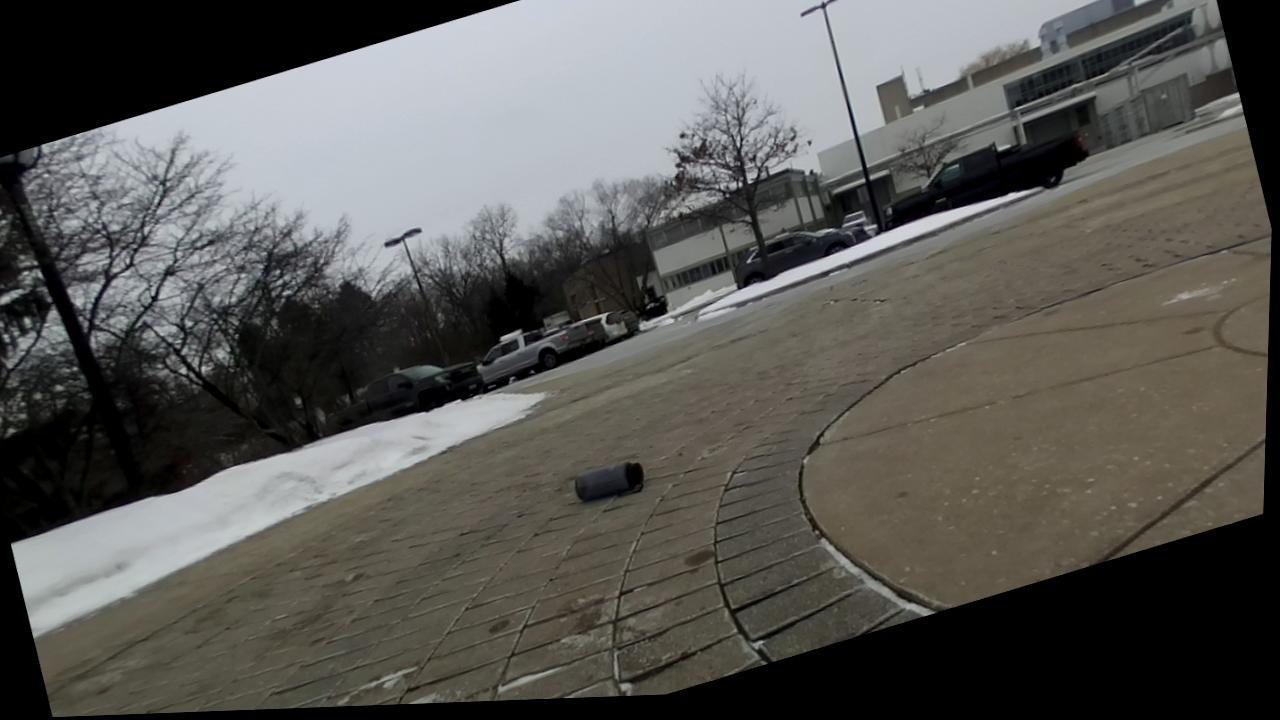bottle: (574, 461, 644, 501)
